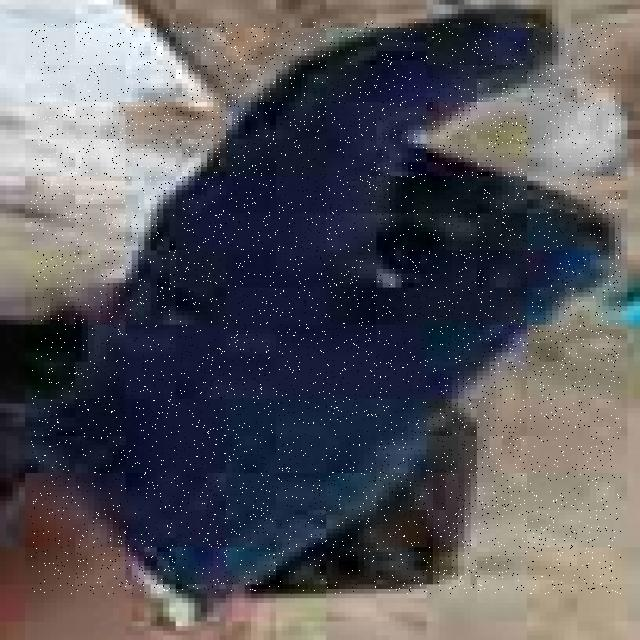other: (32, 21, 621, 593)
